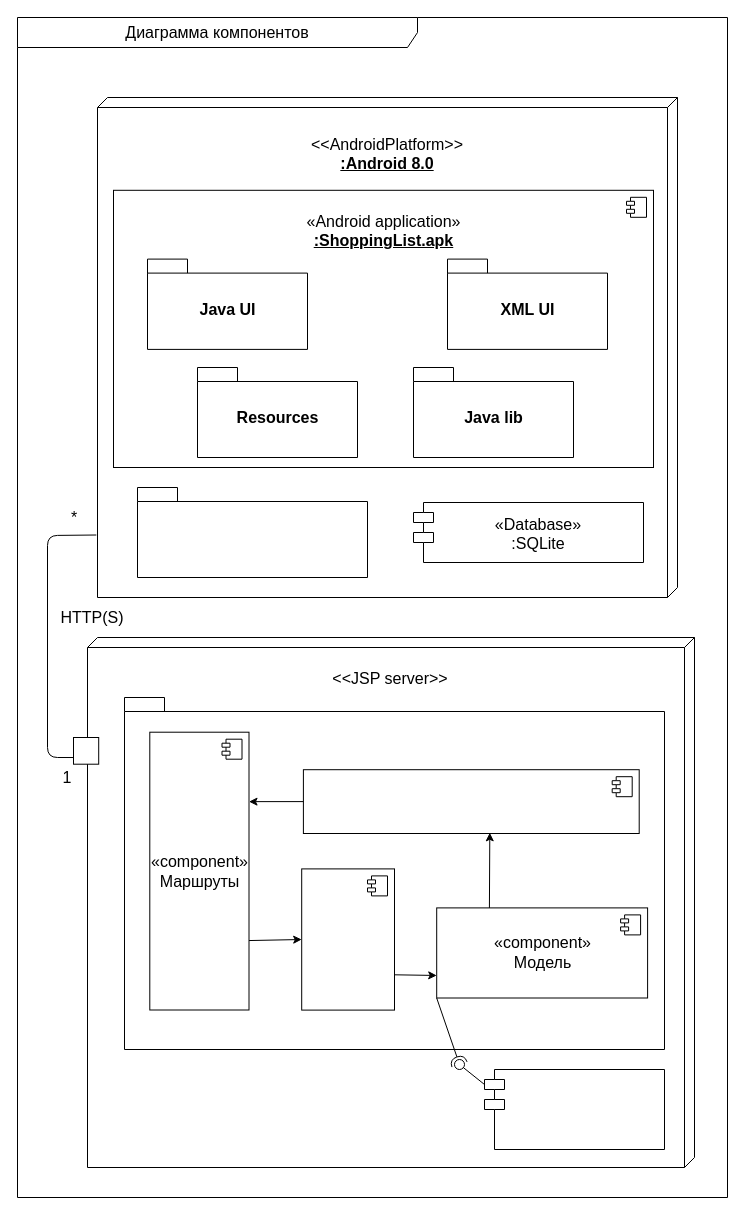
Image size: 745x1215. Some labels were removed from this diagram. The centre of each missing label's shape, as x and y in pixels:
«component» Контроллер: (x=347, y=939)
«component» Представление: (x=470, y=801)
СУБД: (x=574, y=1109)
Уровень Android API: (x=252, y=532)
